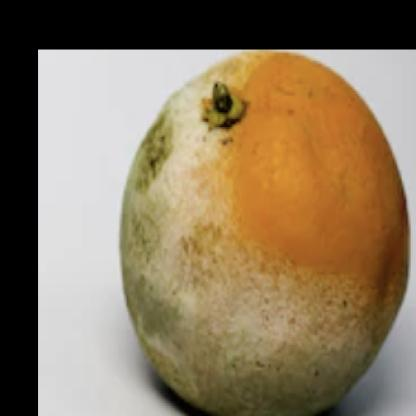rotten: (120, 48, 408, 416)
